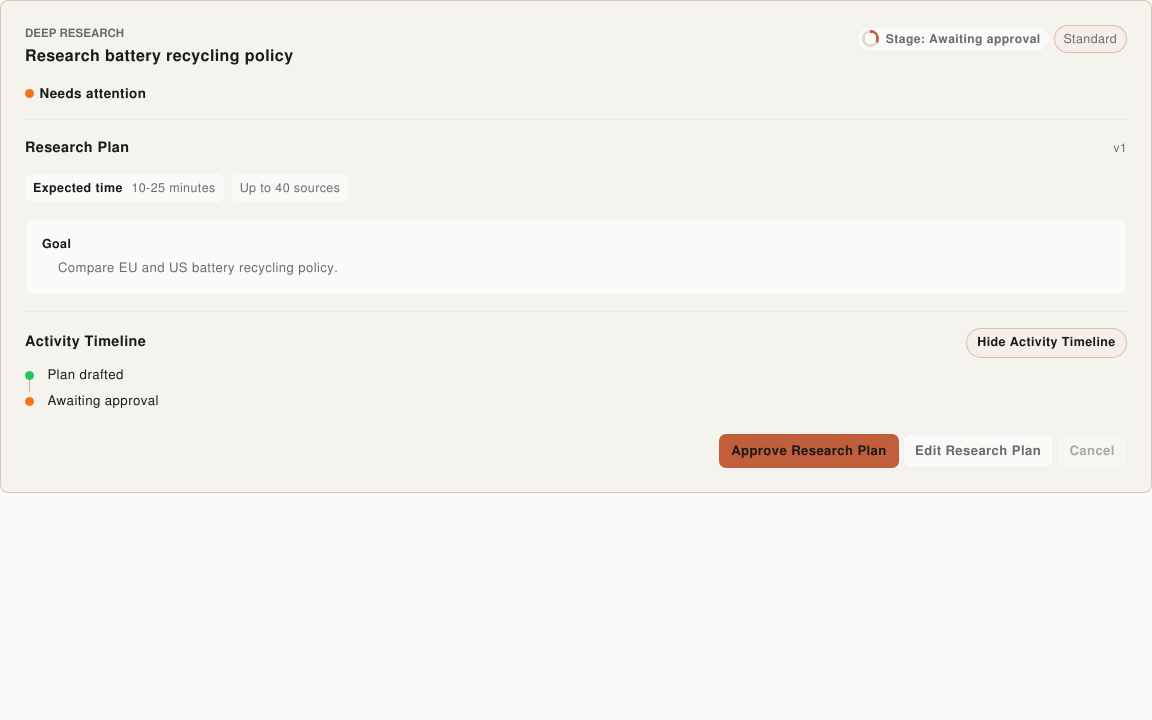
Test: ResearchCard › locks approval actions while approving and hides edit affordances after approval
Step 1. Click the button "Approve Research Plan" → (809, 451), box [719,434,899,468]
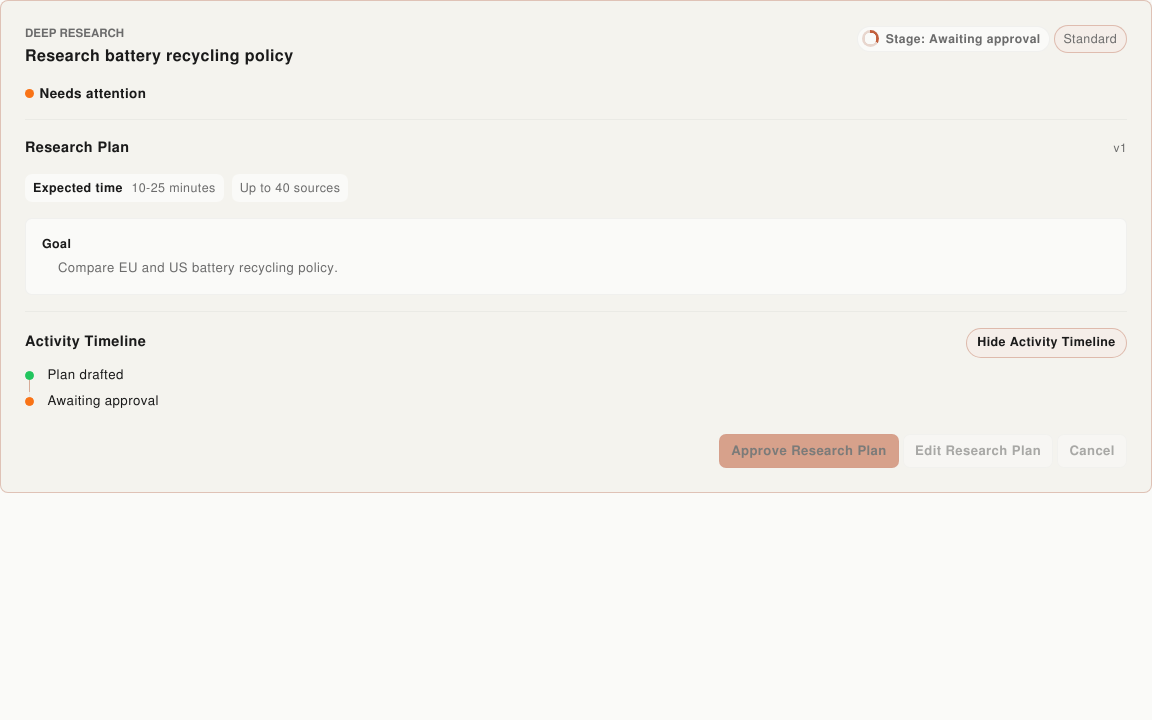
Expected: the button "Approve Research Plan" is disabled, [719,434,899,468]
Expected: the button "Edit Research Plan" is disabled, [903,434,1053,468]
